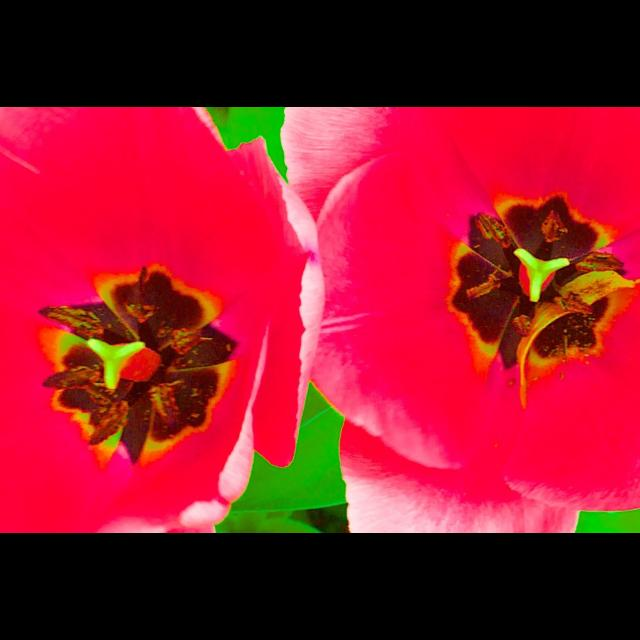Flower: (281, 107, 639, 505), (0, 107, 310, 533)
